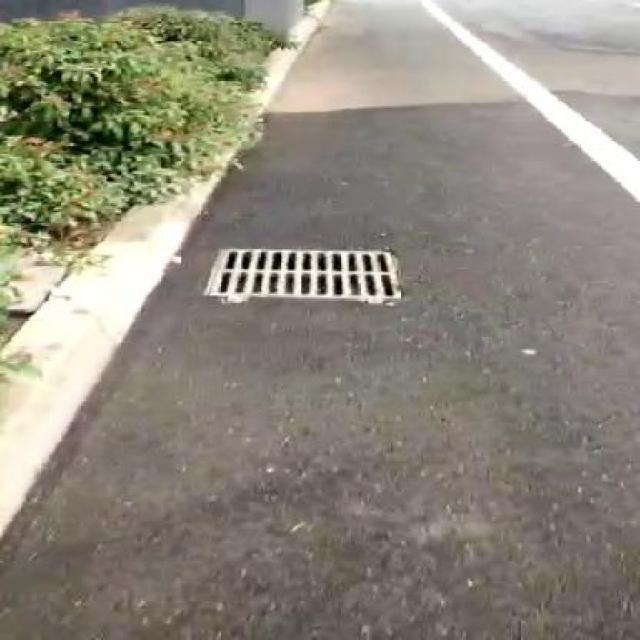Manhole: (195, 241, 414, 307)
